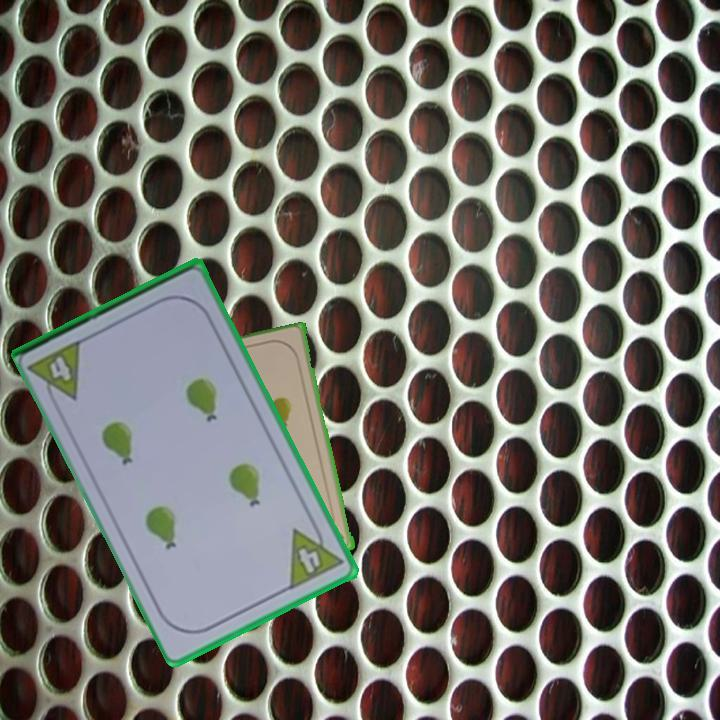4p: (286, 516, 346, 593), (26, 335, 86, 411)
